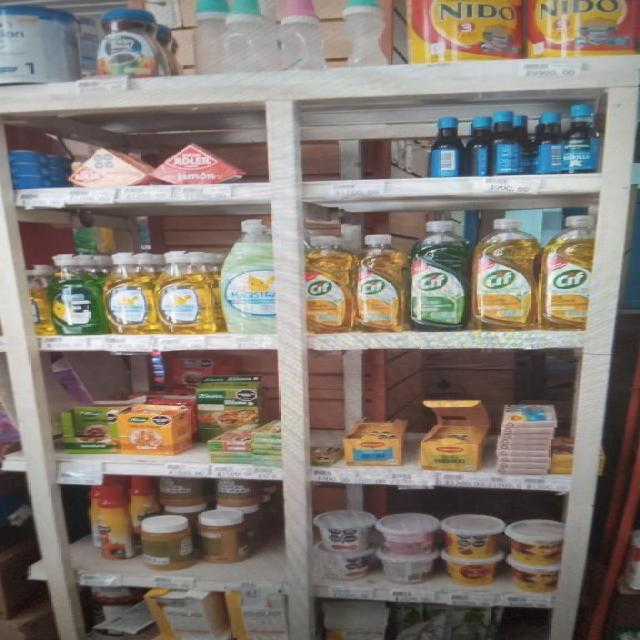cif_conc_bot_amarilla: (473, 215, 537, 331), (541, 212, 596, 331), (356, 231, 406, 333), (304, 234, 353, 334)
cif_conc_botella_verde: (409, 218, 469, 333)
magistral_con_amarillo: (157, 249, 215, 335), (106, 250, 156, 336)
magistral_con_crema: (220, 216, 276, 335)
